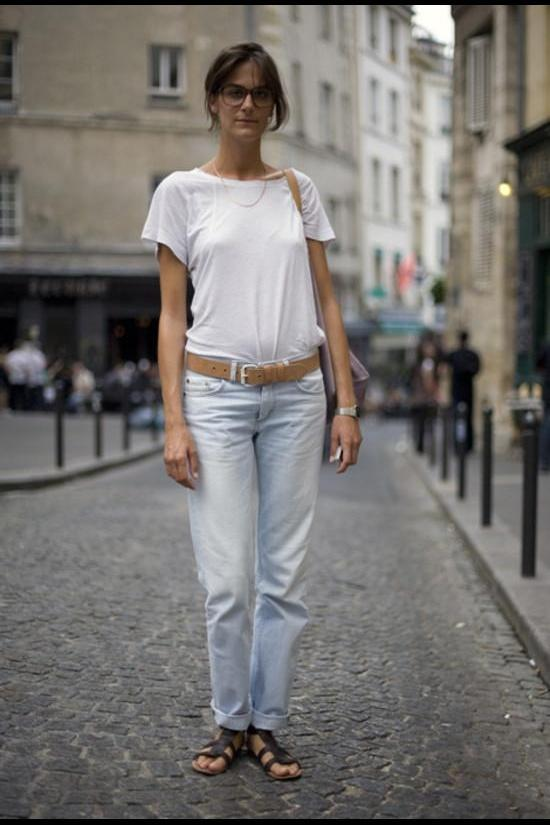Tshirt: (140, 168, 335, 366)
pants: (181, 351, 328, 731)
